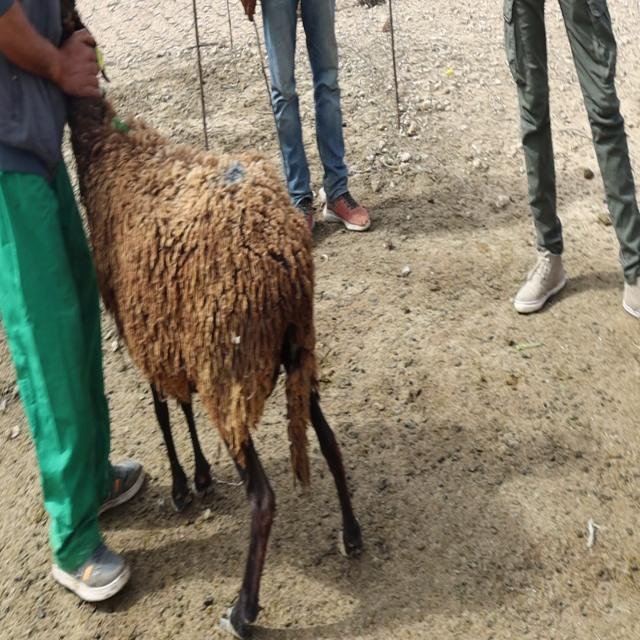Score_1: (67, 95, 362, 637)
